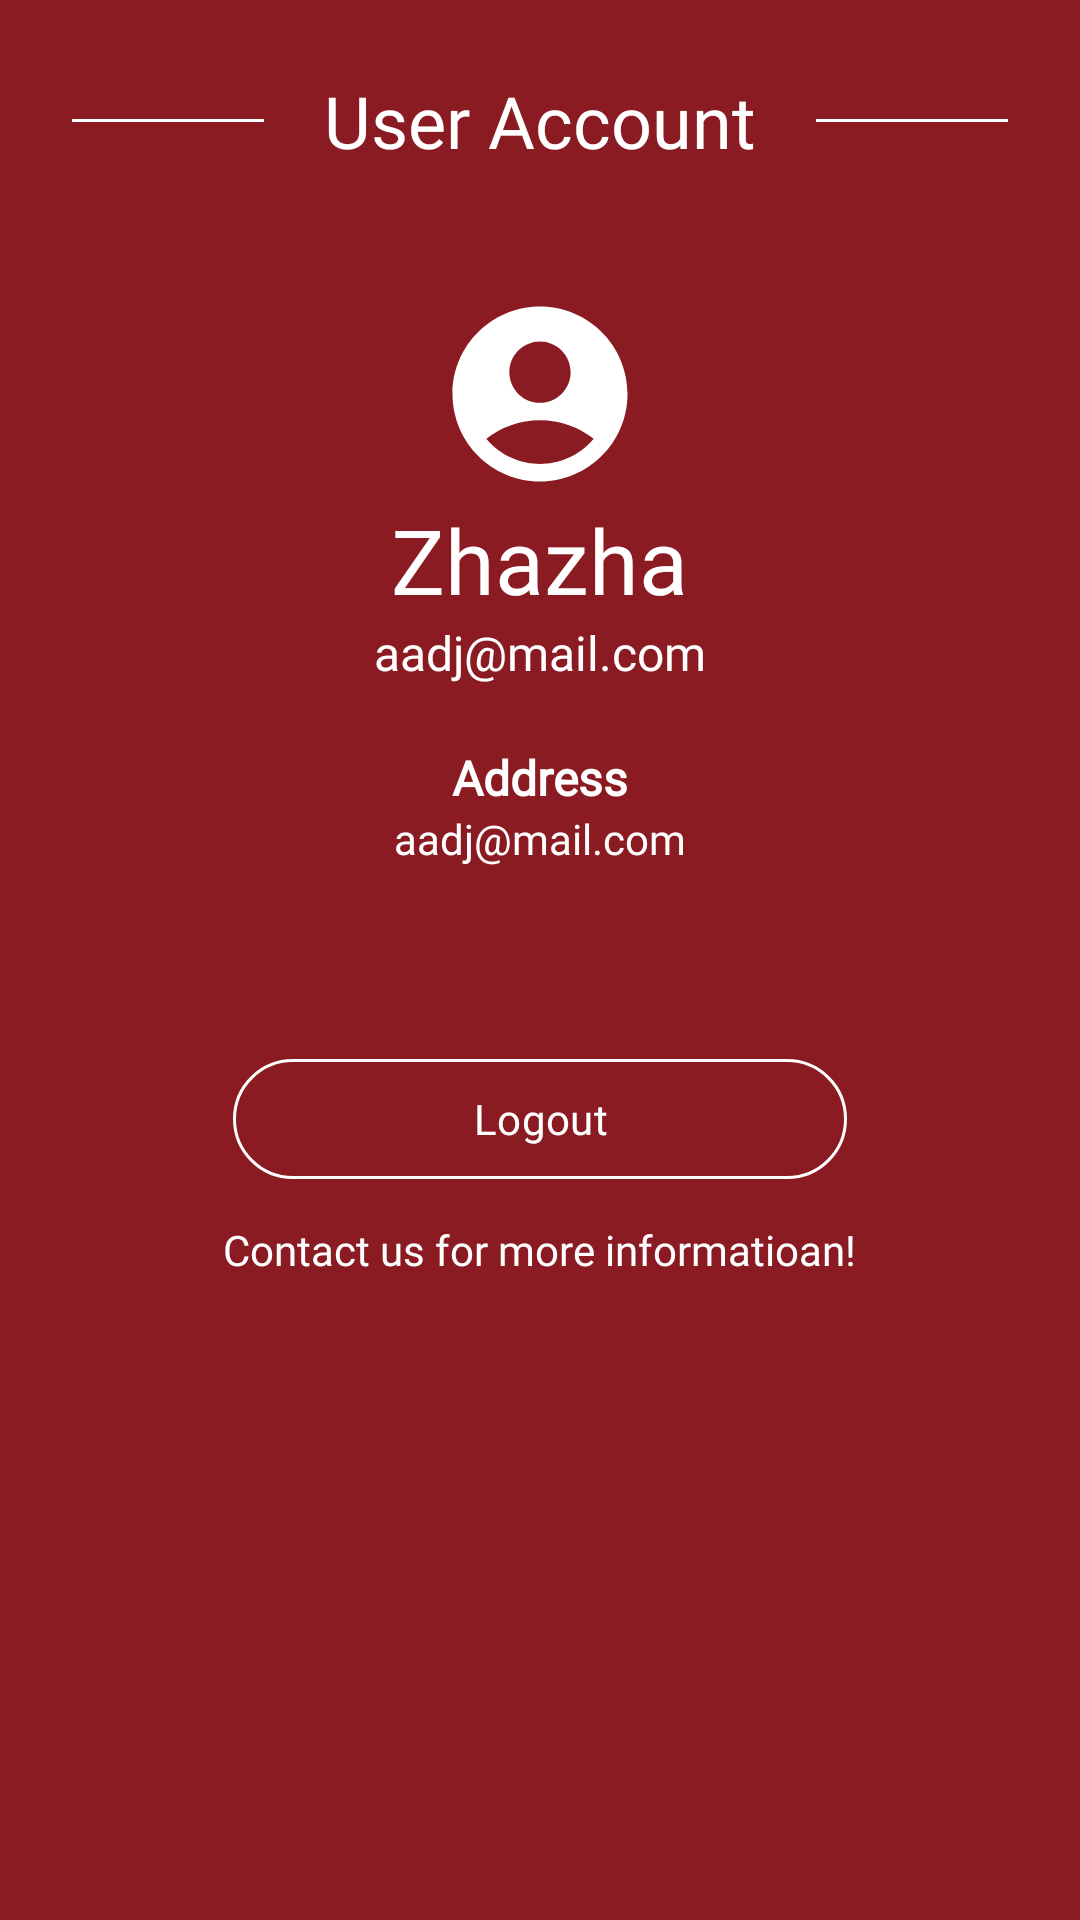

Screen size 1080*1920. Icon name, then its center in pixels as [x,y]:
account circle: [540,394]
